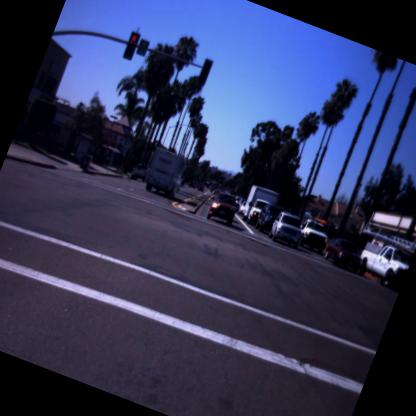trafficlight: (118, 27, 142, 64)
